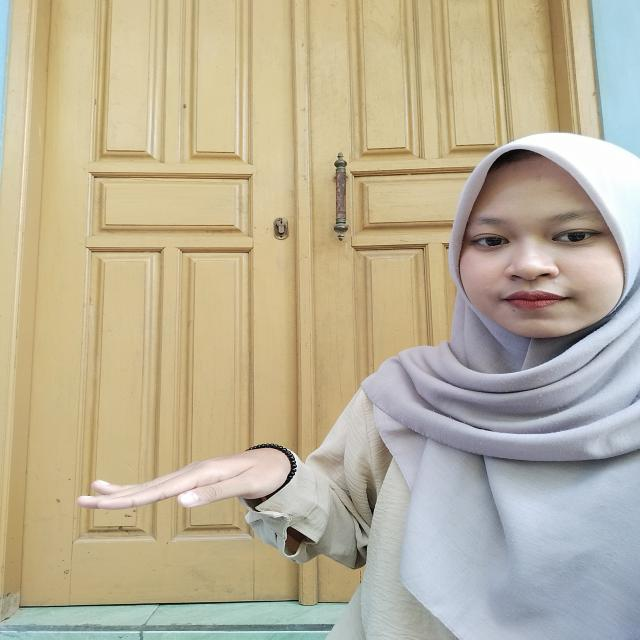adik: (37, 422, 325, 545)
